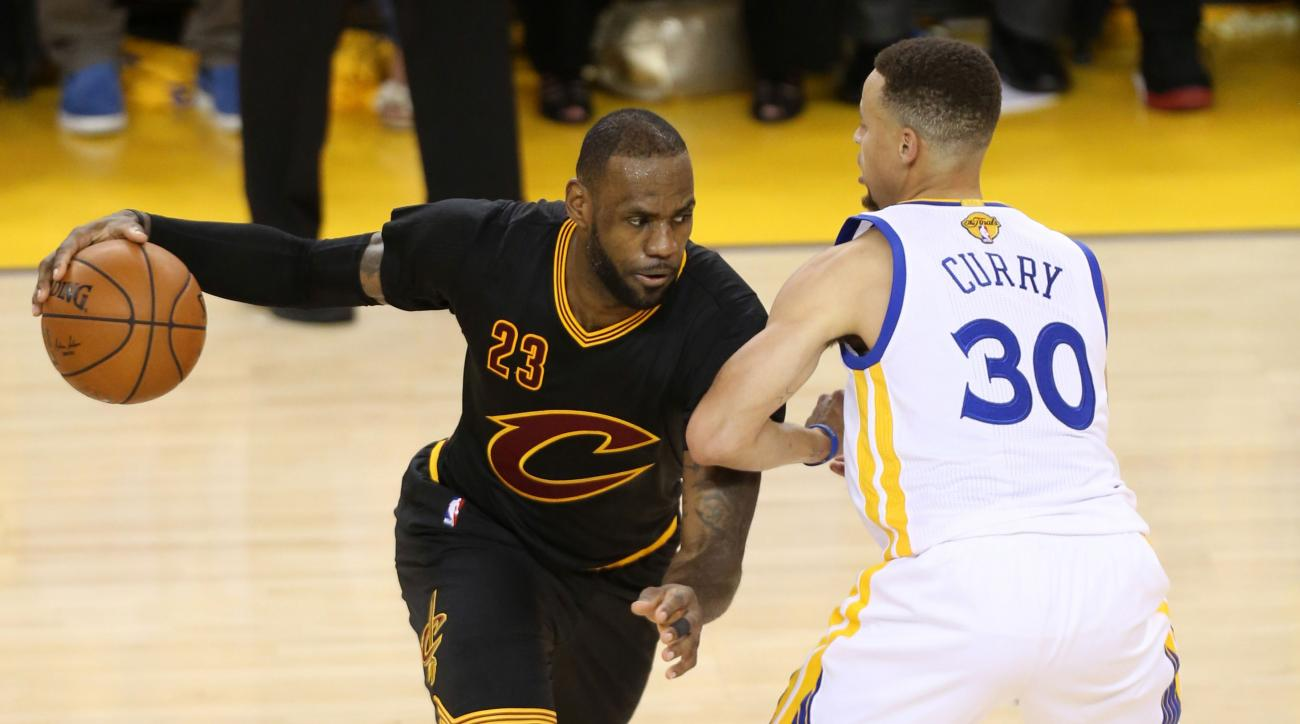Basketball: (40, 236, 211, 414)
